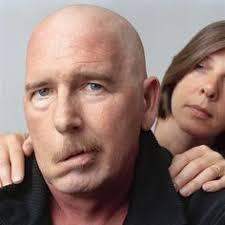strokeEyeWeak: (25, 71, 115, 103)
strokeMouthSevere: (46, 140, 108, 175)
